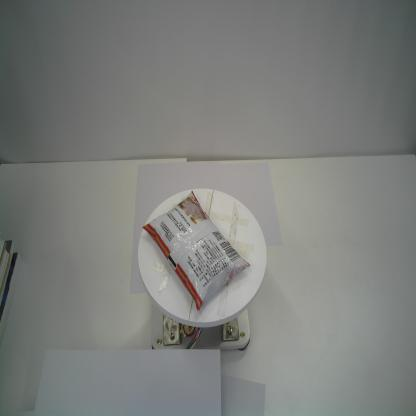Seasoner: (140, 187, 251, 314)
